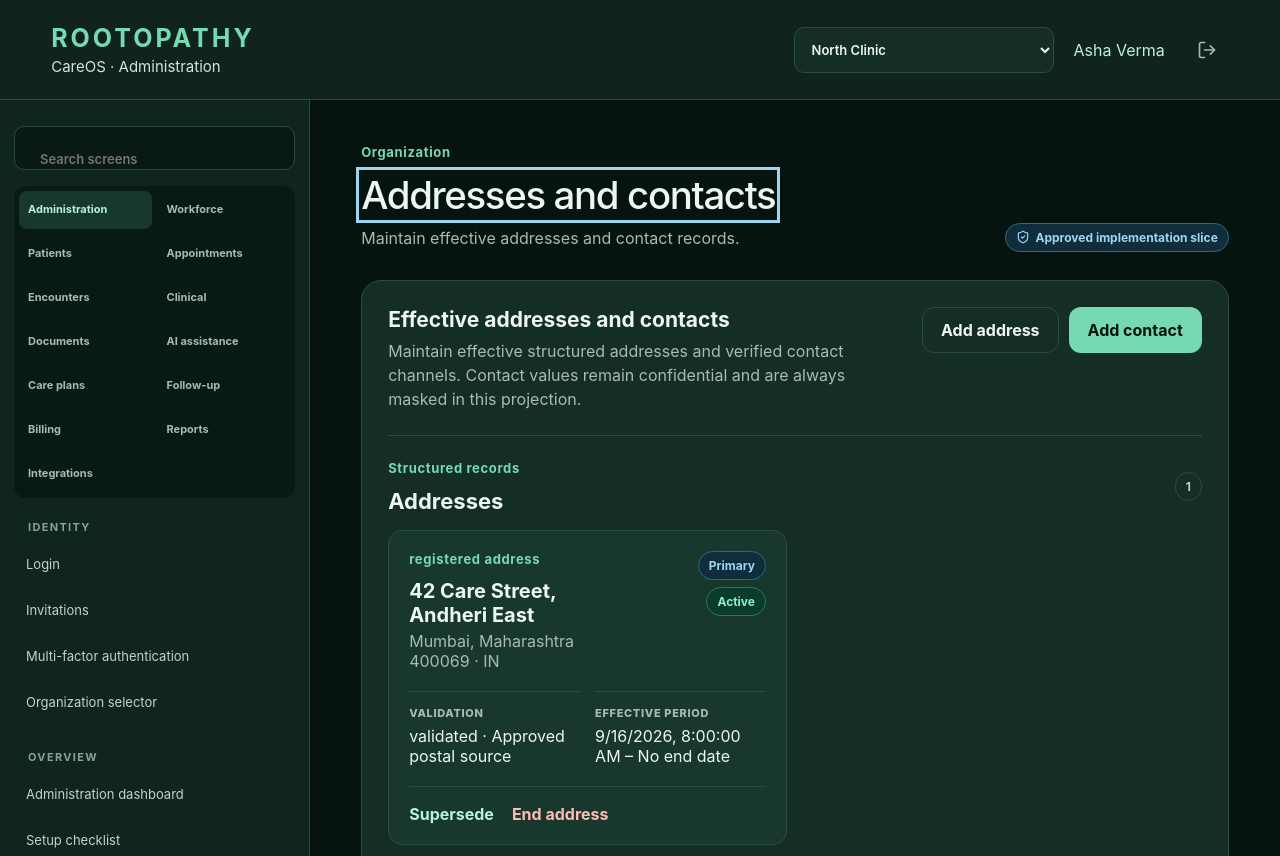
Test case: CareOS frontend session boundary › creates a governed contact without projecting its confidential value back
Click the button "Add contact" at (1135, 330), box x1=1069 y1=307 x2=1202 y2=353
(page scrolled)
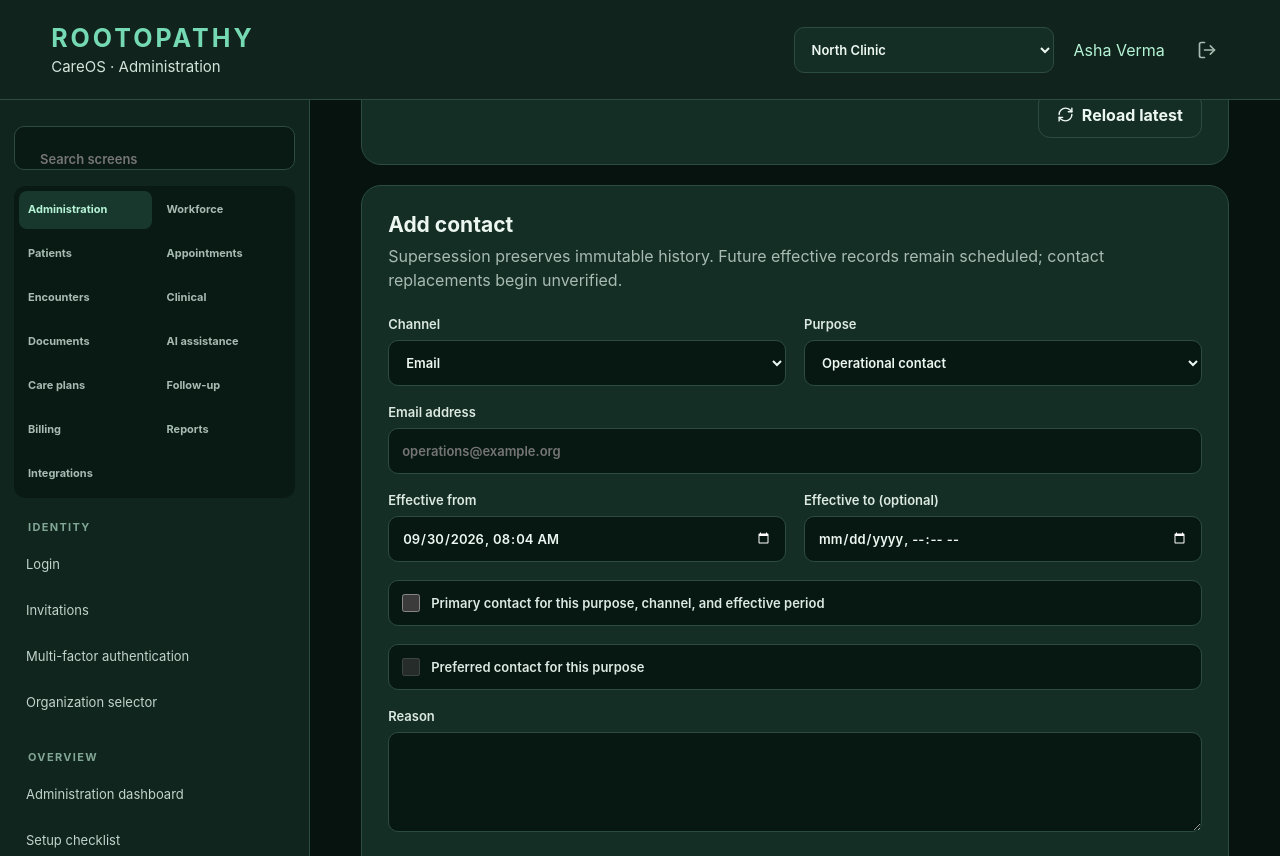
Type "new.operations@example.org" into the field labelled "Email address" at (795, 451), box x1=388 y1=428 x2=1202 y2=474
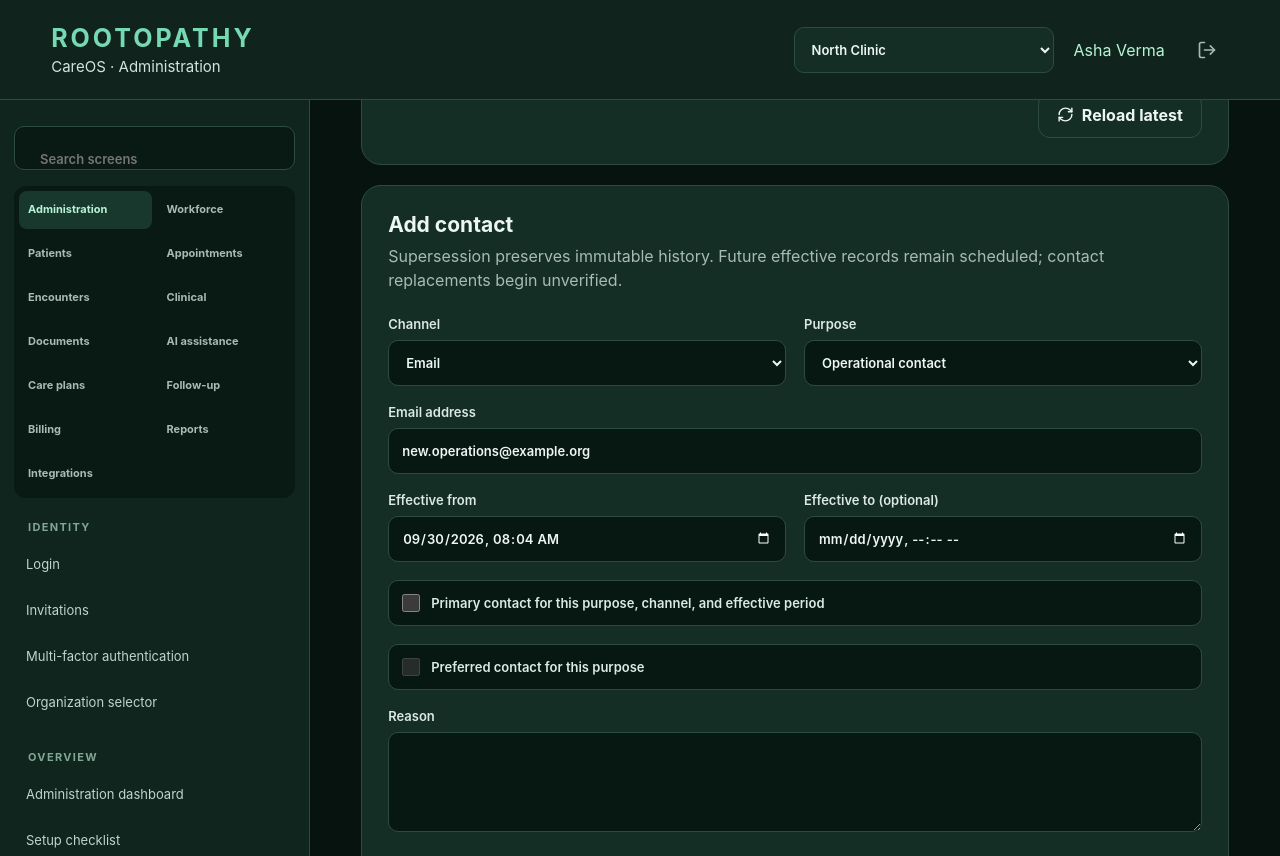
Click the checkbox labelled "Primary contact for this purpose" at (411, 603), box x1=402 y1=594 x2=420 y2=612
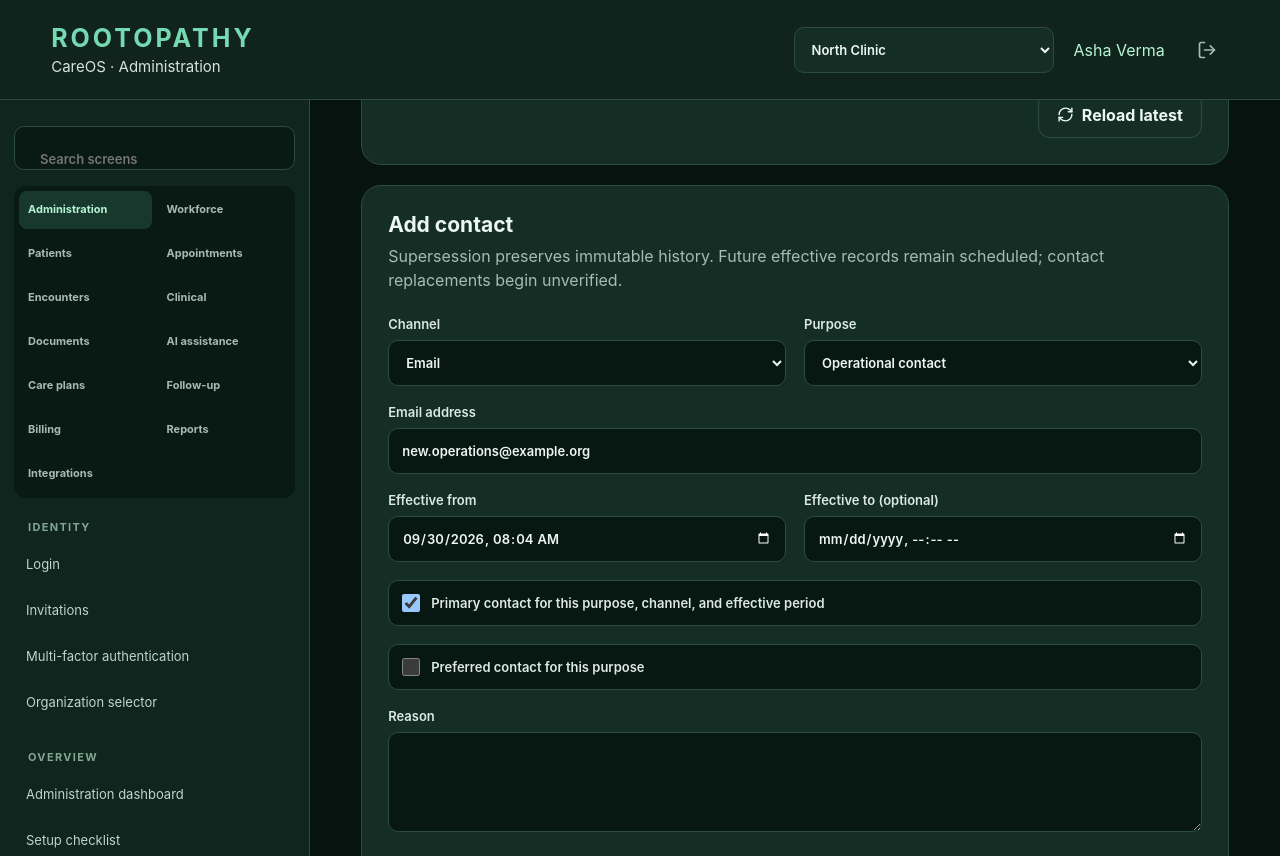
Type "Approved operational contact intake CARE-2001" into the text box labelled "Reason" at (795, 782), box x1=388 y1=732 x2=1202 y2=832
(page scrolled)
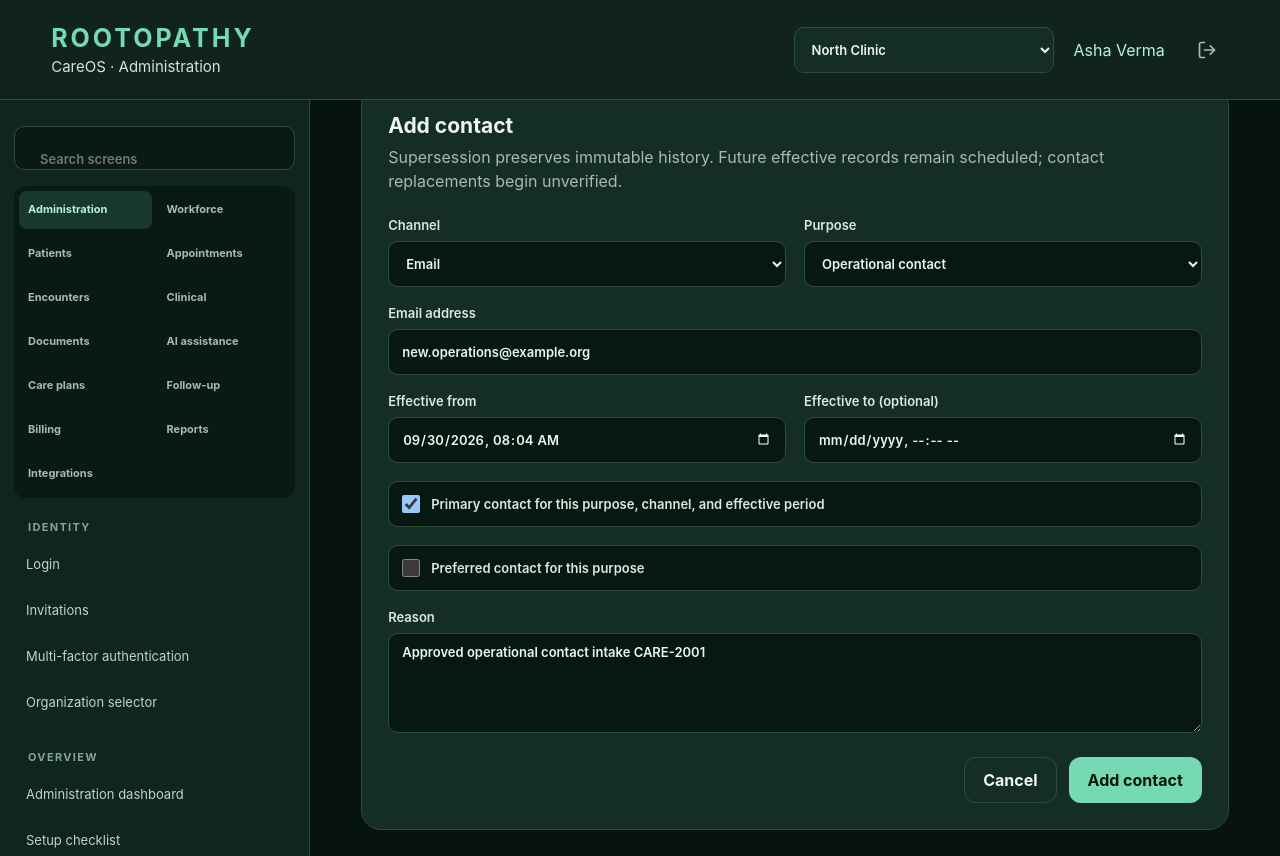
Click the button "Add contact" at (1135, 780), box x1=1069 y1=757 x2=1202 y2=803
(page scrolled)
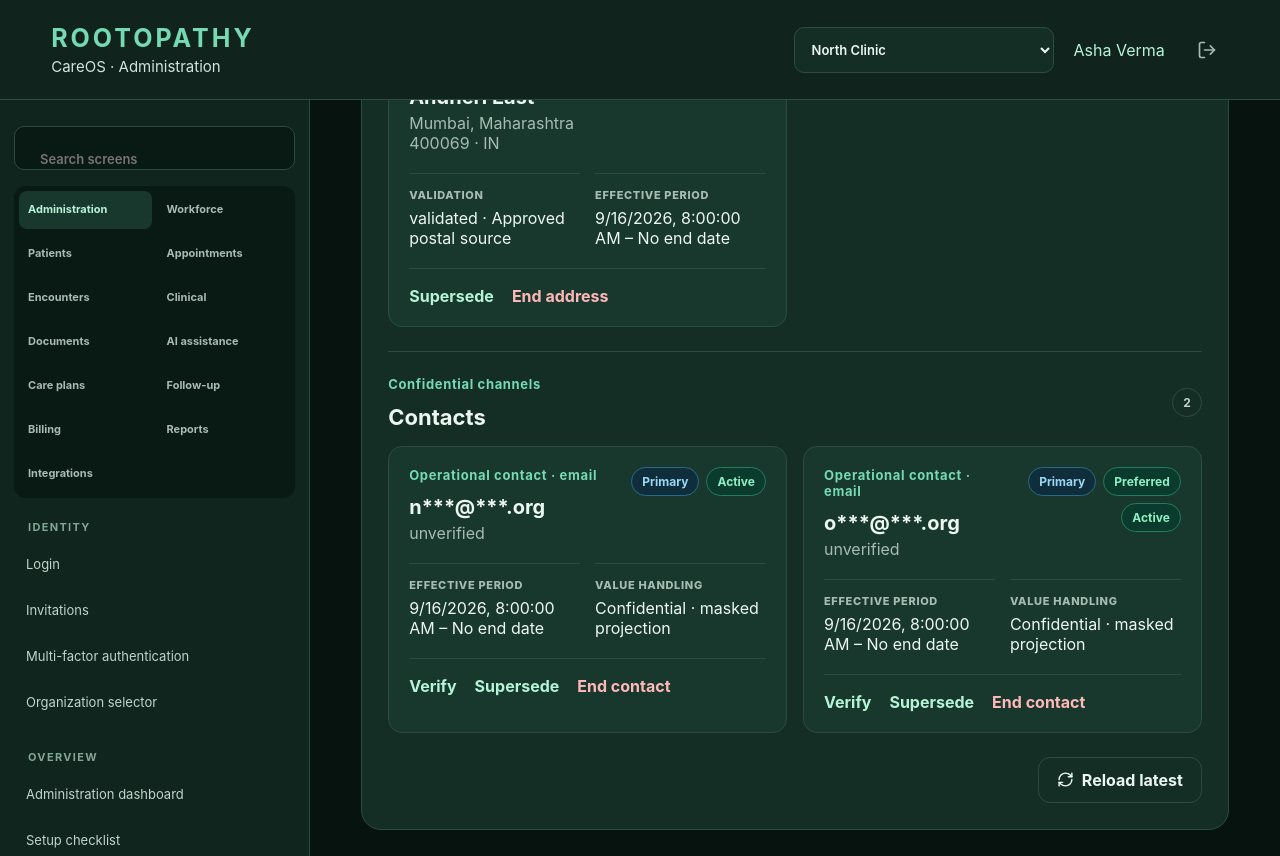
expect the text "new.operations@example.org" is not shown: met
expect the heading "n***@***.org" is shown: met, box x1=409 y1=495 x2=545 y2=519
